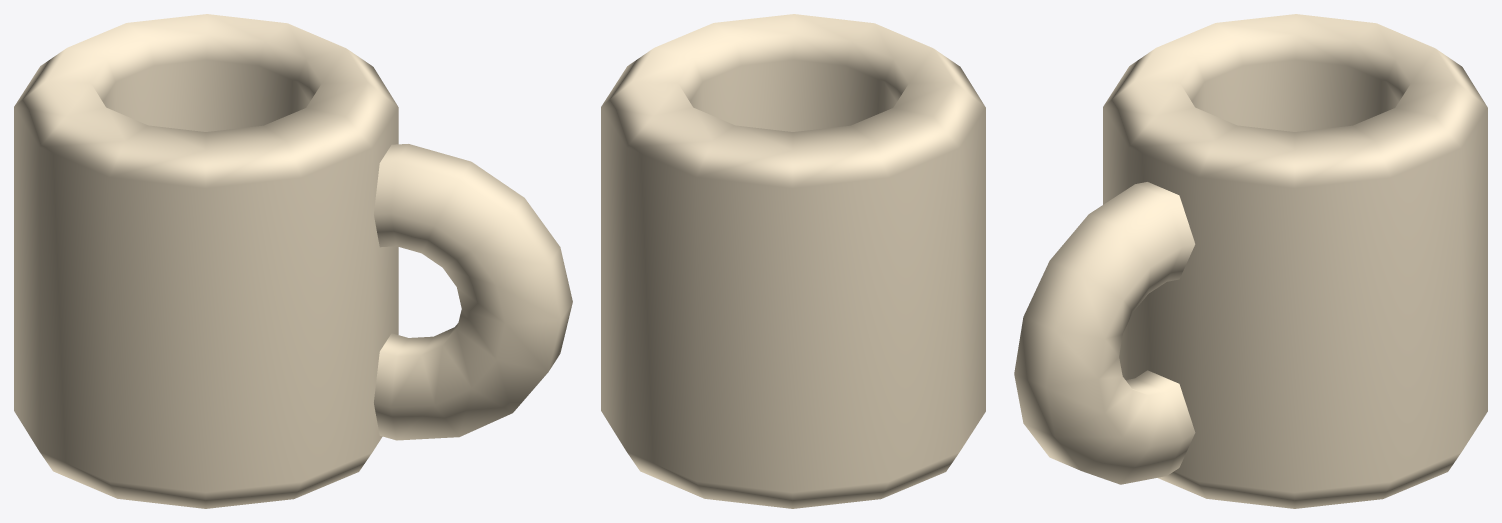
The model's file is cup5.fbx.
The picture shows the model from 3 angles, left to right: view 1: azimuth 30°, elevation 25°; view 2: azimuth 150°, elevation 25°; view 3: azimuth 270°, elevation 25°; orthographic projection.
Parts seen in each view (by area): view 1: cup5; view 2: cup5; view 3: cup5.
Part boxes in pixels (x1=…): cup5: x1=14, y1=14, x2=572, y2=508; cup5: x1=601, y1=14, x2=985, y2=508; cup5: x1=1014, y1=14, x2=1487, y2=508.
Size of the model in its own units: 1.01 by 0.8525 by 1.02.
